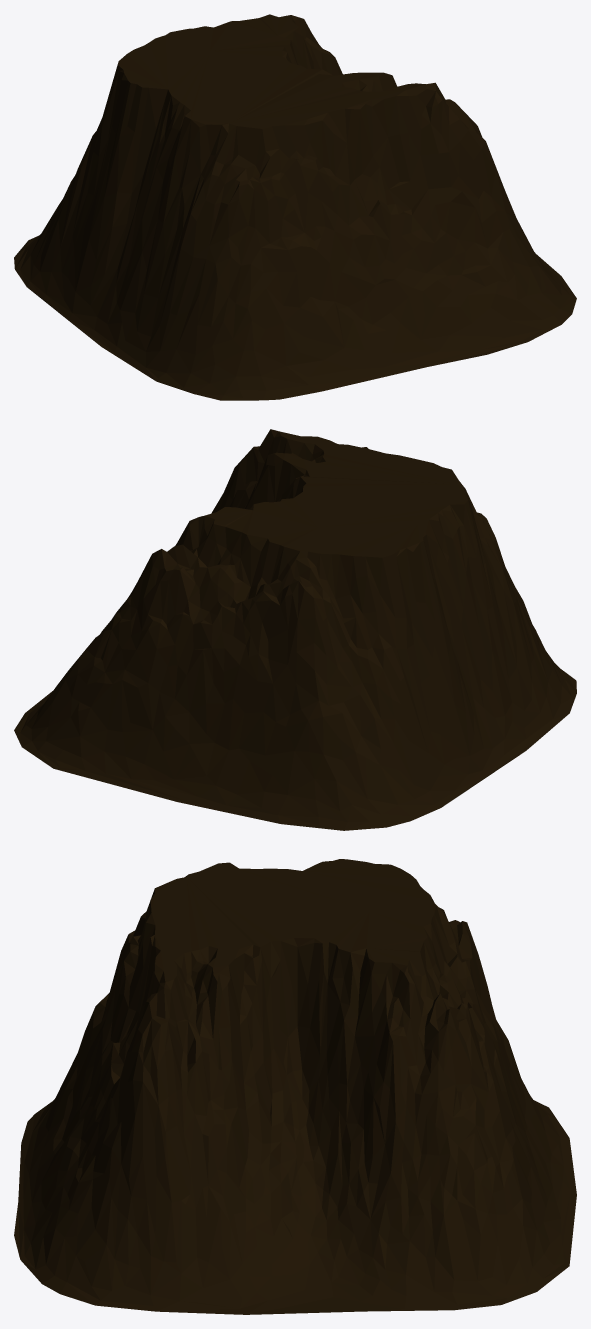
Rendered from Mountain_3.fbx.
The picture shows the model from 3 angles, top to bottom: view 1: azimuth 30°, elevation 25°; view 2: azimuth 150°, elevation 25°; view 3: azimuth 270°, elevation 25°; orthographic projection. The views are drawn at different scales.
Parts seen in each view (by area): view 1: Mountain_3; view 2: Mountain_3; view 3: Mountain_3.
Part boxes in pixels (x1,y1,x2,y2): Mountain_3: (14, 14, 576, 400); Mountain_3: (14, 429, 576, 830); Mountain_3: (14, 859, 576, 1314).
Size of the model in its own units: 6396 by 3203 by 6396.
